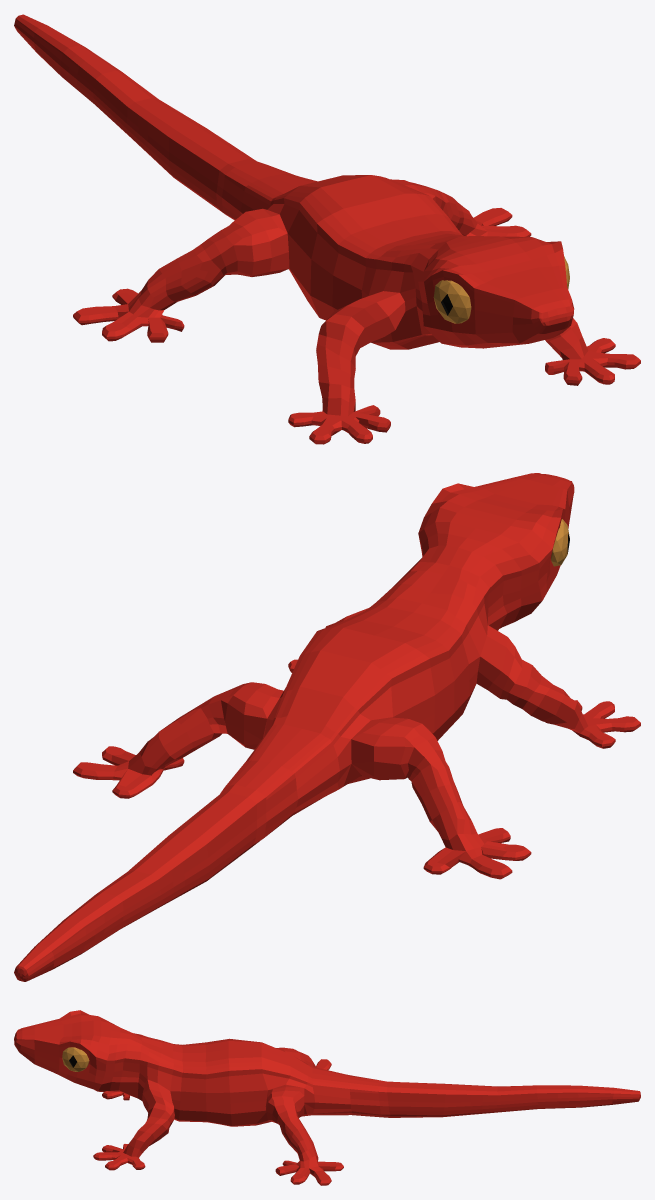
Rendered from gecko_neutral.obj.
The picture shows the model from 3 angles, top to bottom: view 1: azimuth 30°, elevation 25°; view 2: azimuth 150°, elevation 25°; view 3: azimuth 270°, elevation 25°; orthographic projection. The views are drawn at different scales.
Parts seen in each view (by area): view 1: Plane, Icosphere; view 2: Plane; view 3: Plane, Icosphere.
Part boxes in pixels (bbox=[...]): Plane: bbox=[14, 14, 640, 444]; Icosphere: bbox=[433, 256, 569, 323]; Plane: bbox=[14, 473, 640, 981]; Plane: bbox=[14, 1010, 640, 1185]; Icosphere: bbox=[62, 1047, 89, 1071].
Size of the model in its own units: 1.46 by 0.545 by 3.14.
